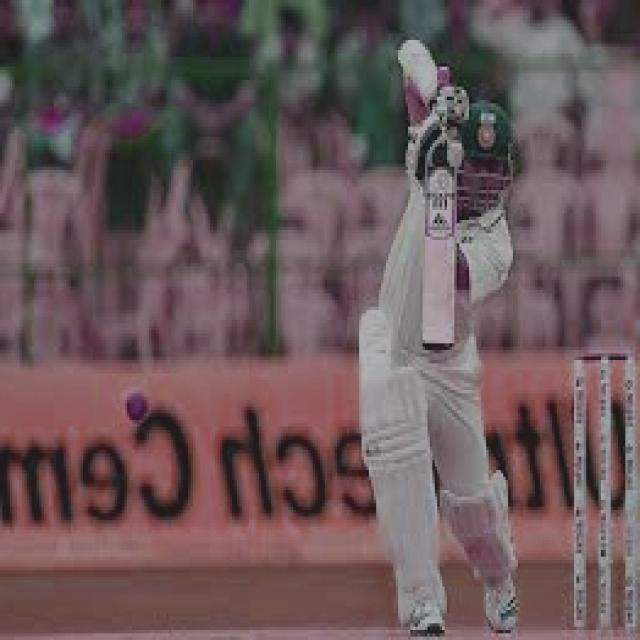toe: (415, 293, 462, 355)
